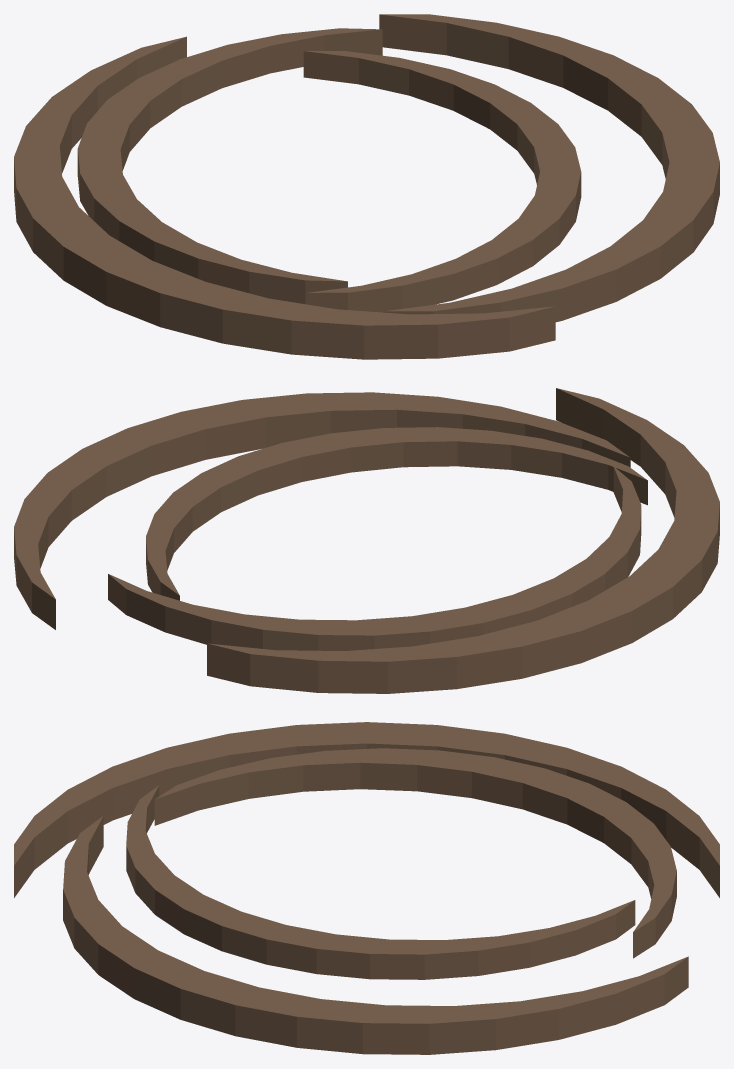
File: onion.gltf
3 views of the same model, one above another, from view 1: azimuth 30°, elevation 25°; view 2: azimuth 150°, elevation 25°; view 3: azimuth 270°, elevation 25° (orthographic). The views are drawn at different scales.
Visible parts, largest first — view 1: Circle, Circle.003, Circle.002, Circle.001; view 2: Circle, Circle.003, Circle.001, Circle.002; view 3: Circle.003, Circle, Circle.002, Circle.001.
Part boxes in pixels (x1,y1,x2,y2): Circle: (14, 36, 555, 359); Circle.003: (379, 14, 719, 322); Circle.002: (77, 28, 382, 304); Circle.001: (303, 51, 581, 312); Circle: (207, 388, 719, 693); Circle.003: (14, 392, 630, 629); Circle.001: (146, 427, 647, 600); Circle.002: (108, 466, 641, 650); Circle.003: (63, 816, 688, 1054); Circle: (14, 722, 719, 897); Circle.002: (154, 748, 676, 958); Circle.001: (126, 785, 635, 979).
Bounding box in the file's own units: 1.93 × 0.1324 × 1.96.
